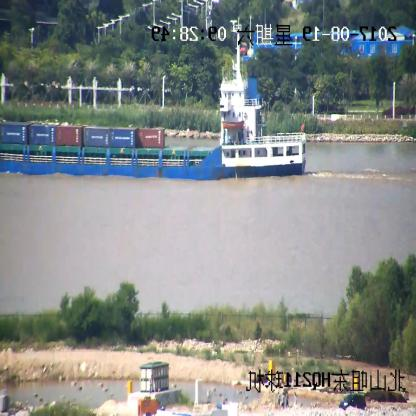Bulk Carrier: (0, 44, 307, 180)
